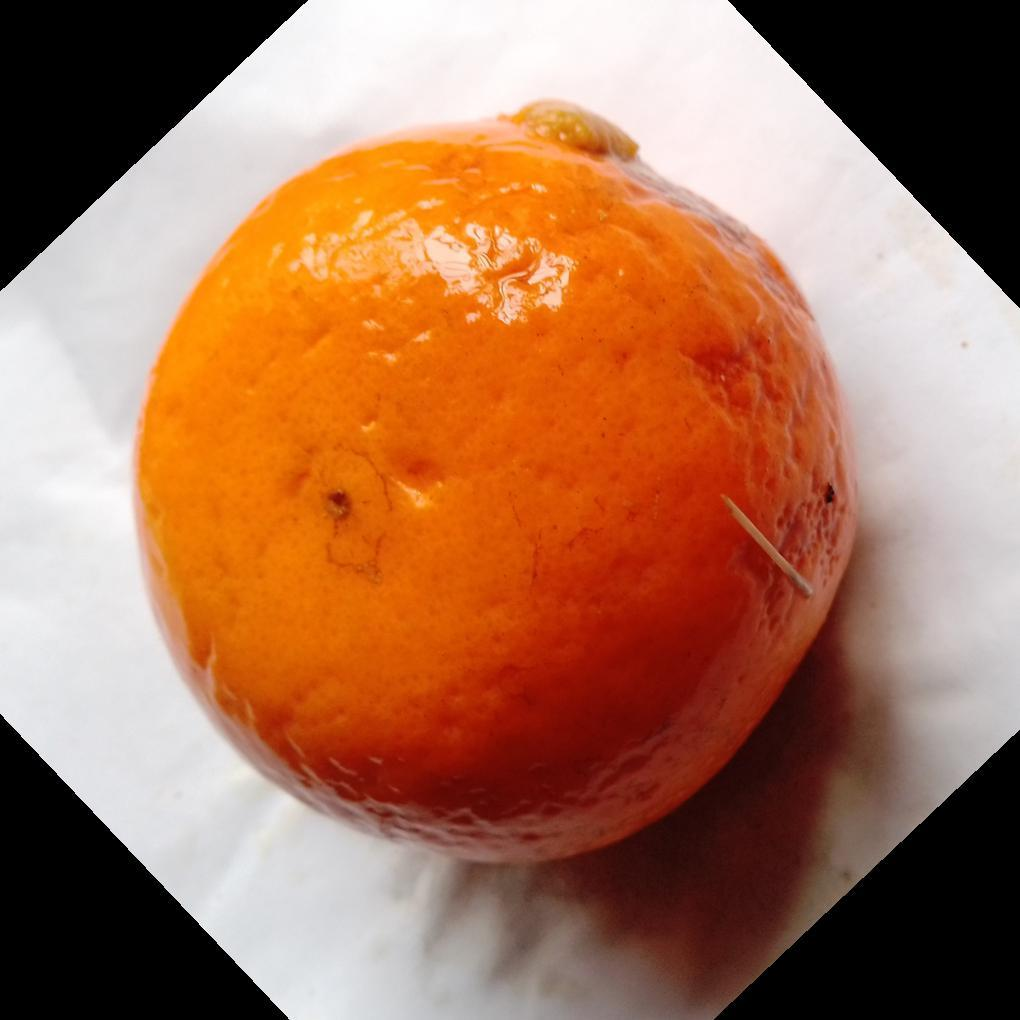FreshOrange: (130, 100, 858, 870)
